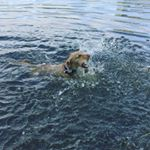puppy: (42, 48, 94, 81)
